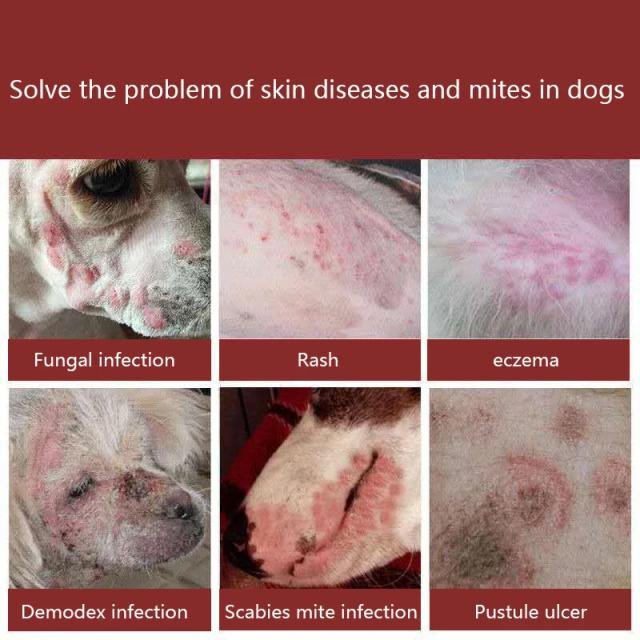fungal infection: (231, 192, 412, 288), (479, 213, 615, 317), (252, 501, 370, 582), (433, 512, 541, 582), (34, 501, 119, 567), (488, 454, 563, 524), (328, 458, 403, 516), (23, 410, 78, 476), (109, 458, 170, 506), (45, 200, 79, 278), (129, 283, 181, 334), (594, 462, 638, 522), (432, 402, 502, 437), (550, 400, 590, 452), (70, 257, 104, 293), (164, 233, 196, 264), (57, 164, 79, 188)
